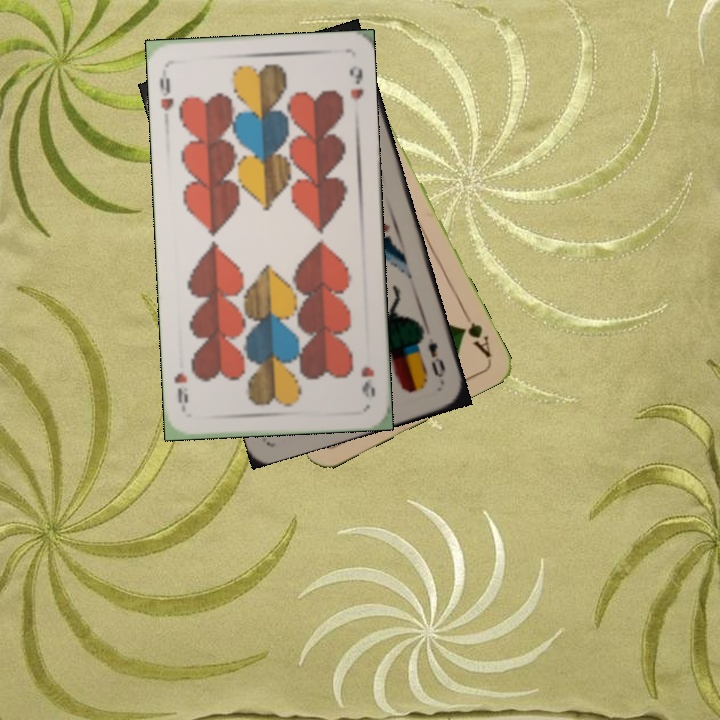EO: (416, 329, 448, 381)
GA: (456, 305, 494, 360)
H9: (155, 73, 176, 114), (357, 363, 378, 400)
